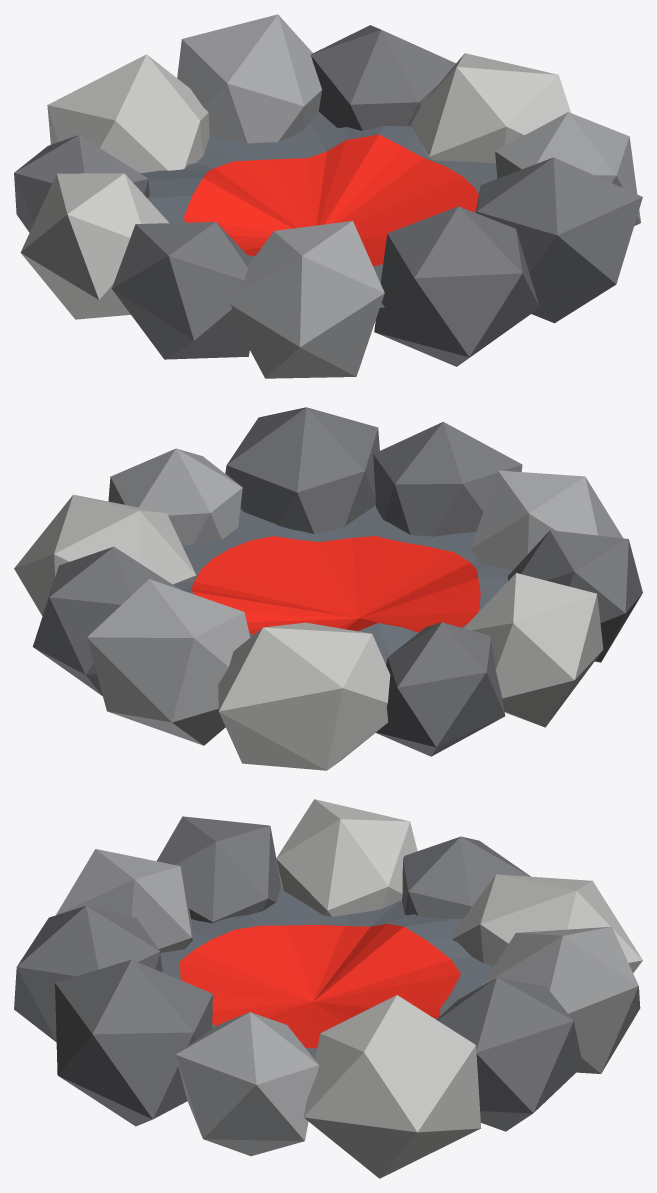
The model's file is campfire.obj.
3 views of the same model, one above another, from view 1: azimuth 30°, elevation 25°; view 2: azimuth 150°, elevation 25°; view 3: azimuth 270°, elevation 25° (orthographic). The views are drawn at different scales.
Visible parts, largest first — view 1: campfire; view 2: campfire; view 3: campfire.
Part boxes in pixels (bbox=[...]): campfire: bbox=[14, 14, 642, 378]; campfire: bbox=[14, 407, 642, 770]; campfire: bbox=[14, 799, 642, 1178].
Bounding box in the file's own units: 1.13 × 0.3219 × 1.11.
